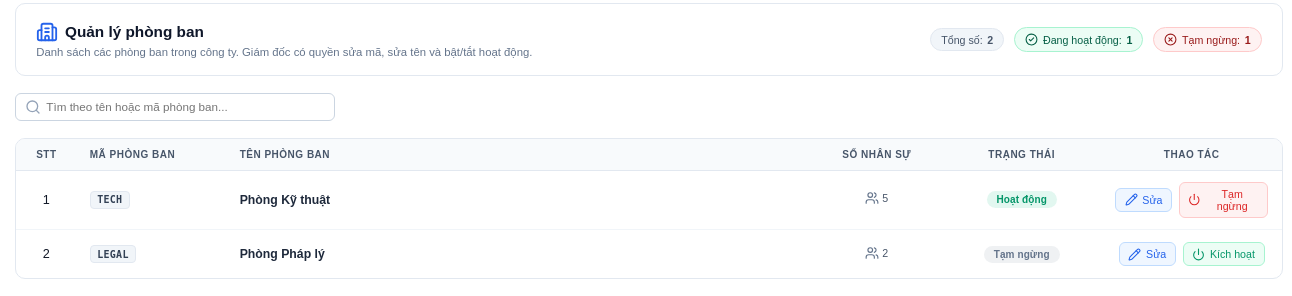
Test: DepartmentManagement component › filters departments using search input
The width and height of the screenshot is (1292, 296).
Check: the text "Phòng Kỹ thuật" is shown, box [240,193,330,207]
Step 1. Type "Pháp lý" into the field named "Tìm kiếm phòng ban" → x=175, y=107, box [15,93,335,121]
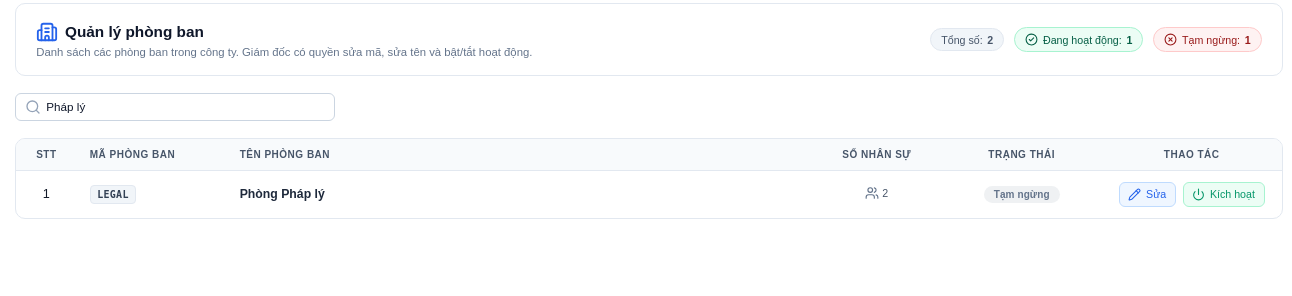
Check: the text "Phòng Pháp lý" is shown, box [240,187,325,201]
Check: the text "Phòng Kỹ thuật" is gone
